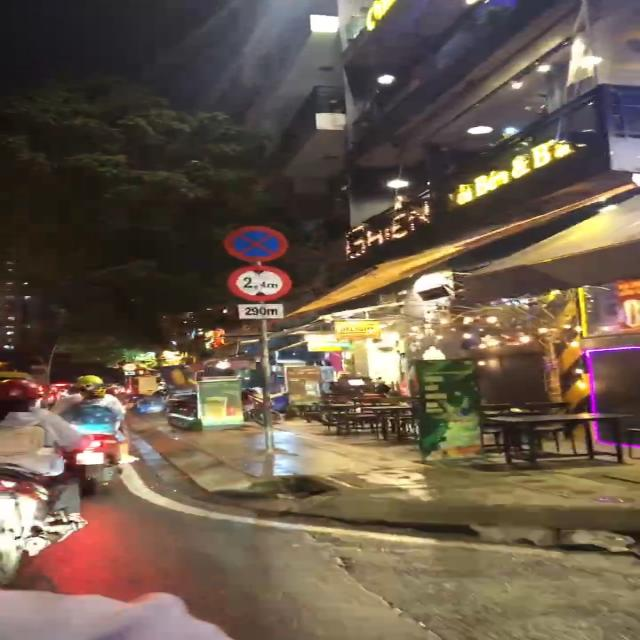Bien bao cam dung xe va do xe: (220, 222, 292, 264)
Bien bao han che chieu cao: (229, 264, 297, 303)
